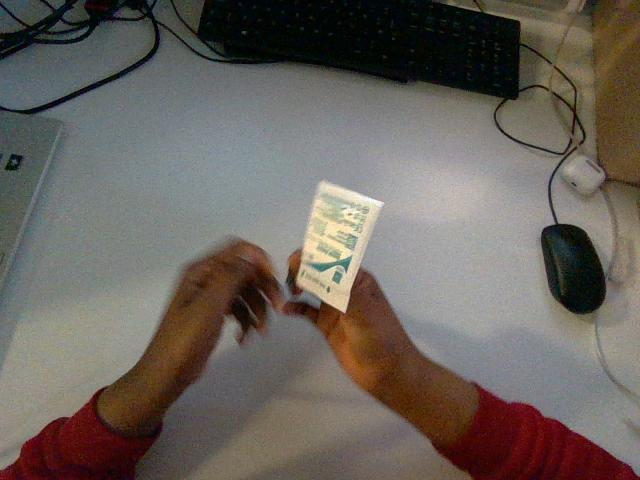gauze: (296, 181, 383, 311)
